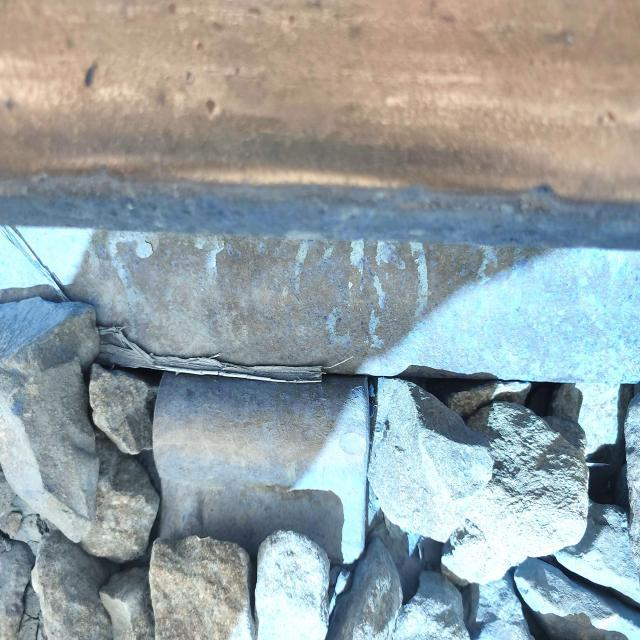Missing Fastener: (116, 291, 419, 586)
